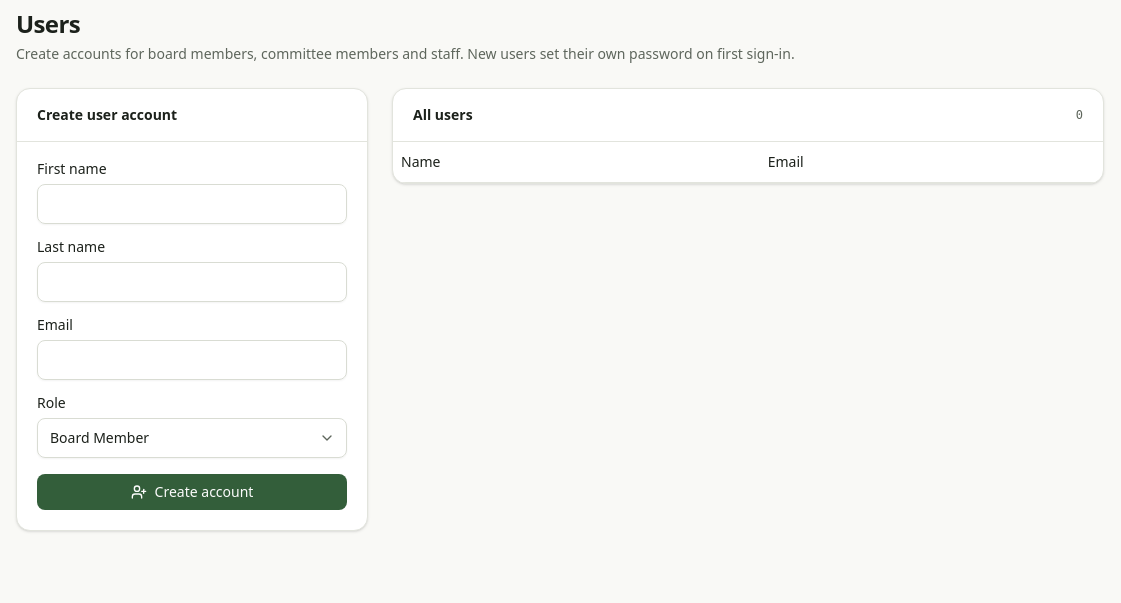
Test case: AdminUsers › creates a user, shows success, and refreshes the list
The image size is (1121, 603).
Type "Jane" into the field labelled "First name" at (192,204), box [37, 184, 347, 224]
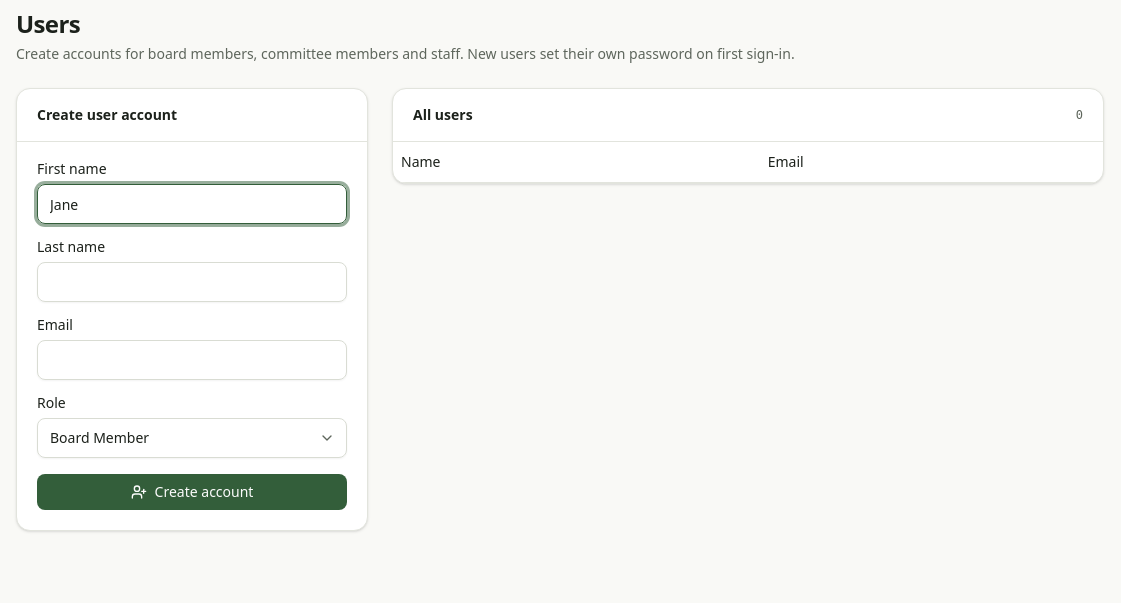
Type "Doe" into the field labelled "Last name" at (192,282), box [37, 262, 347, 302]
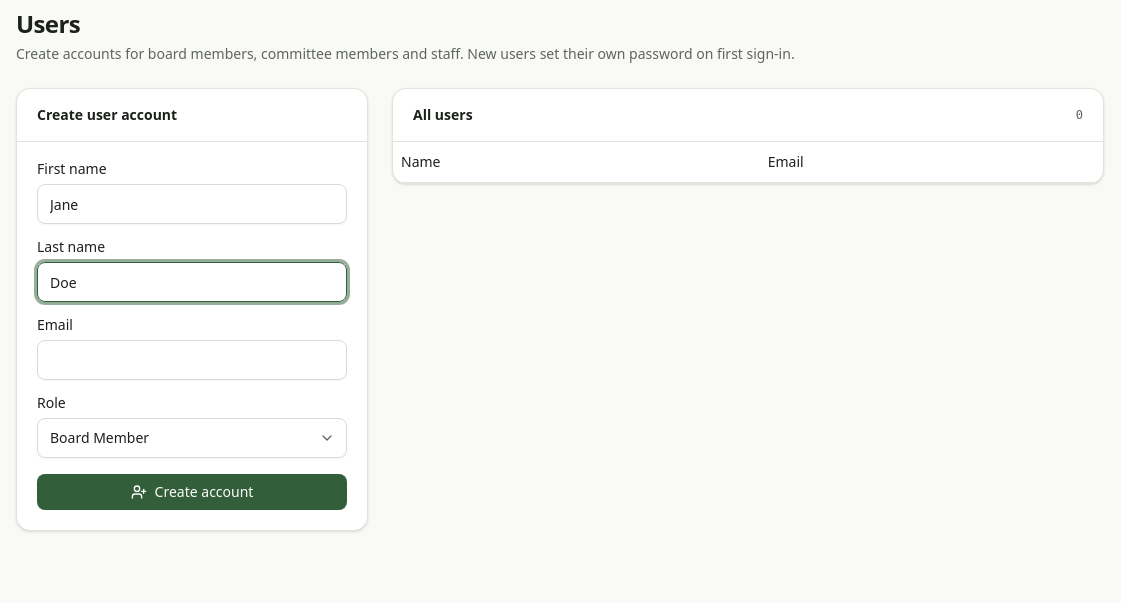
Type "jane@example.com" into the field labelled "Email" at (192,360), box [37, 340, 347, 380]
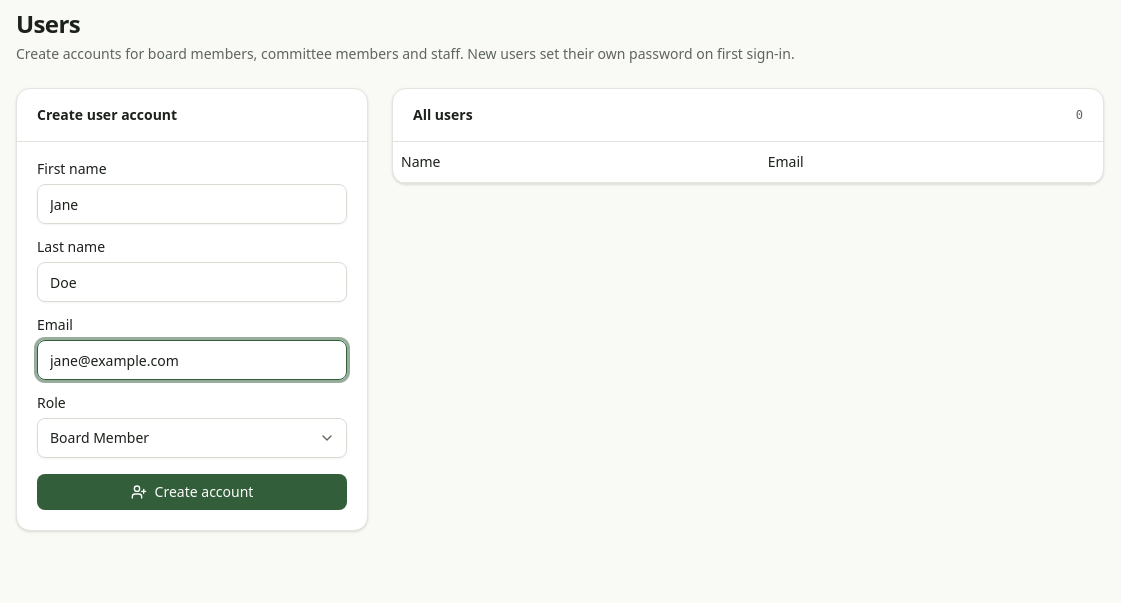
Click the button "Create account" at (192,492), box [37, 474, 347, 510]
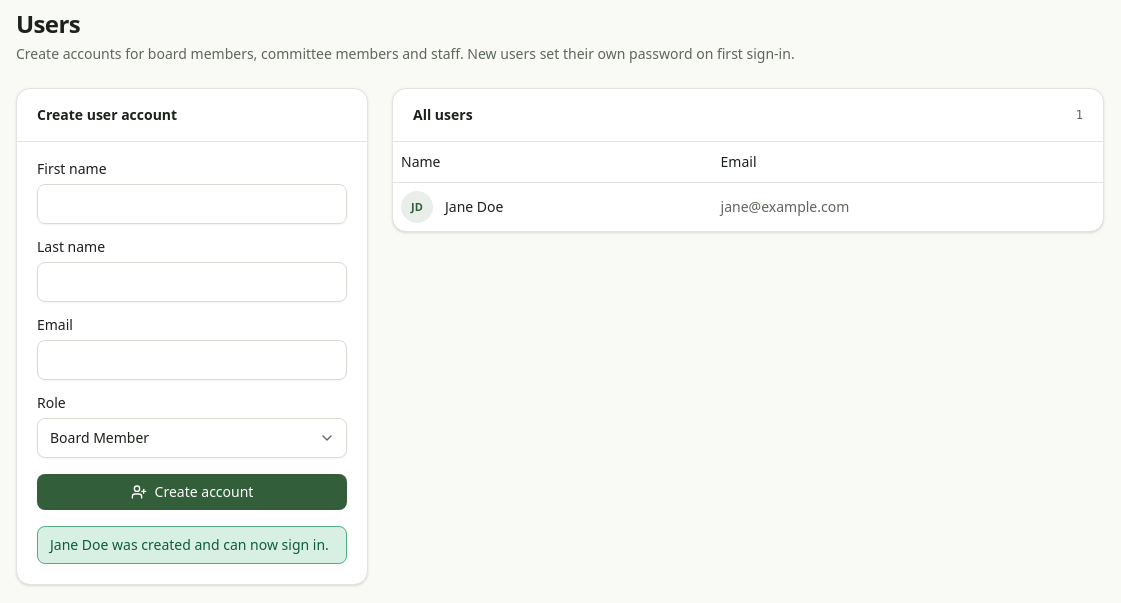
Now the text "Jane Doe was created and can now sign in." is shown, box [37, 526, 347, 564]
Now the text "jane@example.com" is shown, box [713, 182, 1103, 230]
